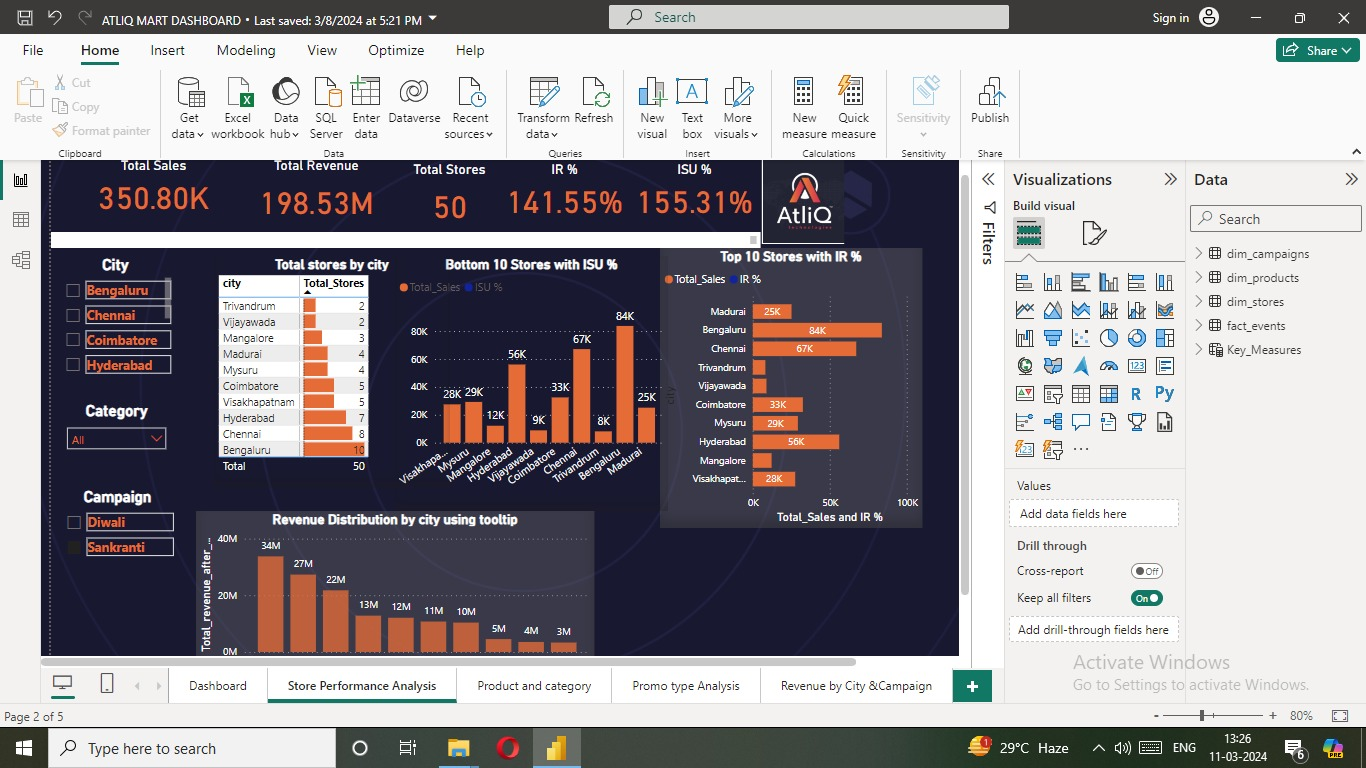

Layout of this report page (visuals, bound fields, positions):
{"tool":"powerbi","page":{"name":"Store Performance Analysis","canvas":[1280,720],"ordinal":1},"visuals":[{"type":"image","box":[867.1,0,144.3,120],"z":0},{"type":"card","title":"Total Sales","fields":{"Values":["Key_Measures.Total_Sales"]},"box":[52.9,5.7,151.4,77.1],"z":1000},{"type":"card","title":"Total Revenue","fields":{"Values":["Key_Measures.Total_Revenue_Overall"]},"box":[254.3,5.7,155.7,88.6],"z":2000},{"type":"card","title":"Total Stores","fields":{"Values":["Key_Measures.Total_Stores"]},"box":[444.3,11.4,108.6,88.6],"z":3000},{"type":"card","title":"IR %","fields":{"Values":["Key_Measures.IR %"]},"box":[562.9,11.4,158.6,77.1],"z":4000},{"type":"card","title":"ISU %","fields":{"Values":["Key_Measures.ISU %"]},"box":[721.4,11.4,165.7,77.1],"z":5000},{"type":"textbox","box":[0,100,887.1,20],"z":6000},{"type":"slicer","title":"City","fields":{"Values":["dim_stores.city"]},"box":[5.7,130,148.6,158.6],"z":7000},{"type":"slicer","title":"Category","fields":{"Values":["dim_products.category"]},"box":[10,312.9,144.3,165.7],"z":8000},{"type":"slicer","title":"Campaign","fields":{"Values":["dim_campaigns.campaign_name"]},"box":[7.1,420,151.4,115.7],"z":9000},{"type":"barChart","title":"Top 10 Stores with IR %","fields":{"Category":["dim_stores.city"],"Y":["Key_Measures.Total_Sales","Key_Measures.IR %"]},"box":[761.2,120,327.5,350],"z":13001},{"type":"columnChart","title":"Bottom 10 Stores with ISU %","fields":{"Category":["dim_stores.city"],"Y":["Key_Measures.Total_Sales","Key_Measures.ISU %"]},"box":[430,130,341.2,318.8],"z":13002},{"type":"tableEx","title":"Total stores by city","fields":{"Values":["dim_stores.city","Key_Measures.Total_Stores"]},"box":[203.8,130,295,290],"z":13003},{"type":"clusteredColumnChart","title":"Revenue Distribution by city using tooltip","fields":{"Category":["dim_stores.city"],"Y":["Key_Measures.Total_revenue_after_promo"]},"box":[181.2,448.8,497.5,271.2],"z":13004}]}

Visuals, with their boxes on the page's 1280x720 design canvas (x1, y1, x2, y2). These are canvas units, not pixel positions in the 1366x768 screenshot, which may show the page scaled, cropped or inside an application window:
image: (x1=867, y1=0, x2=1011, y2=120)
"Total Sales" card: (x1=53, y1=6, x2=204, y2=83)
"Total Revenue" card: (x1=254, y1=6, x2=410, y2=94)
"Total Stores" card: (x1=444, y1=11, x2=553, y2=100)
"IR %" card: (x1=563, y1=11, x2=722, y2=88)
"ISU %" card: (x1=721, y1=11, x2=887, y2=88)
textbox: (x1=0, y1=100, x2=887, y2=120)
"City" slicer: (x1=6, y1=130, x2=154, y2=289)
"Category" slicer: (x1=10, y1=313, x2=154, y2=479)
"Campaign" slicer: (x1=7, y1=420, x2=158, y2=536)
"Top 10 Stores with IR %" barChart: (x1=761, y1=120, x2=1089, y2=470)
"Bottom 10 Stores with ISU %" columnChart: (x1=430, y1=130, x2=771, y2=449)
"Total stores by city" tableEx: (x1=204, y1=130, x2=499, y2=420)
"Revenue Distribution by city using tooltip" clusteredColumnChart: (x1=181, y1=449, x2=679, y2=720)
